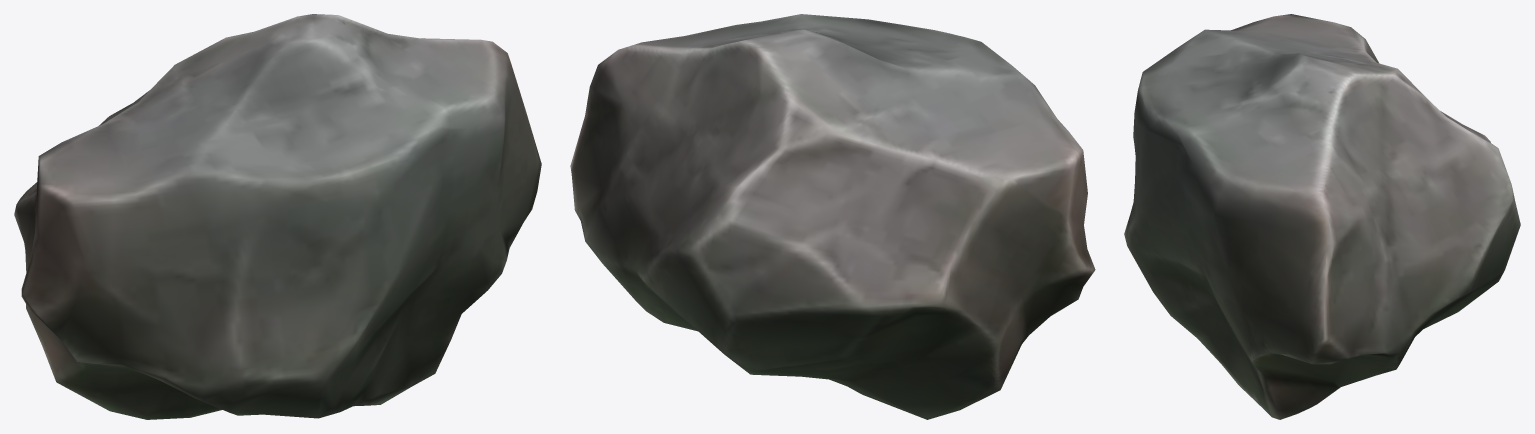
The model's file is stone_small_3.glb.
3 renders of one model, left to right at view 1: azimuth 30°, elevation 25°; view 2: azimuth 150°, elevation 25°; view 3: azimuth 270°, elevation 25°, orthographic. The views are drawn at different scales.
Parts seen in each view (by area): view 1: Small_3; view 2: Small_3; view 3: Small_3.
Part boxes in pixels (x1,y1,x2,y2): Small_3: [14, 14, 541, 419]; Small_3: [570, 14, 1095, 419]; Small_3: [1124, 14, 1520, 419].
Size of the model in its own units: 1.98 by 1.27 by 1.44.
Materials: 1 (1 with a texture image).
